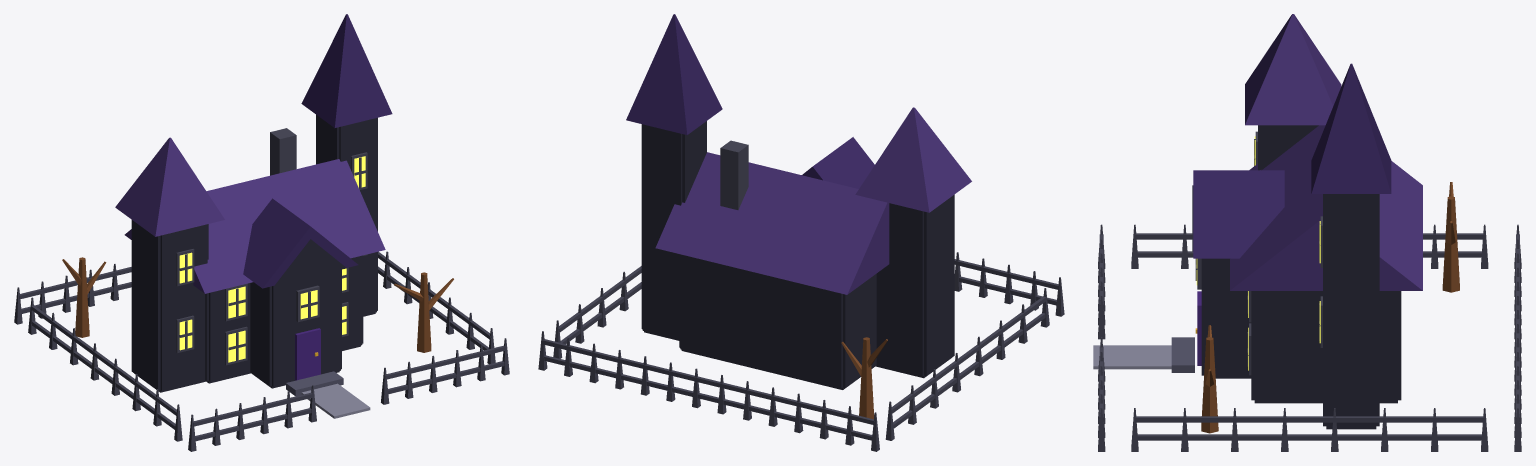
Rendered from haunted-manor-2x2.glb.
3 views of the same model, side by side, from view 1: azimuth 30°, elevation 25°; view 2: azimuth 150°, elevation 25°; view 3: azimuth 270°, elevation 25° (orthographic). The views are drawn at different scales.
Visible parts, largest first — view 1: haunted-manor-2x2; view 2: haunted-manor-2x2; view 3: haunted-manor-2x2.
Part boxes in pixels (<box>): haunted-manor-2x2: <box>14,14,509,451</box>; haunted-manor-2x2: <box>538,14,1064,451</box>; haunted-manor-2x2: <box>1093,14,1521,451</box>.
Size of the model in its own units: 2 by 1.78 by 1.95.
Materials: 1 (1 with a texture image).
